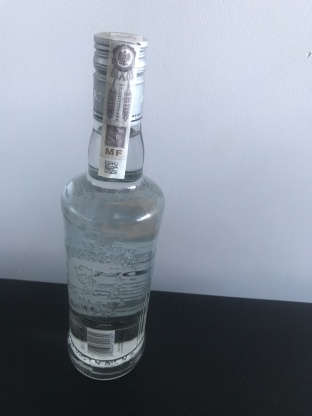nakretka: (88, 25, 150, 129)
